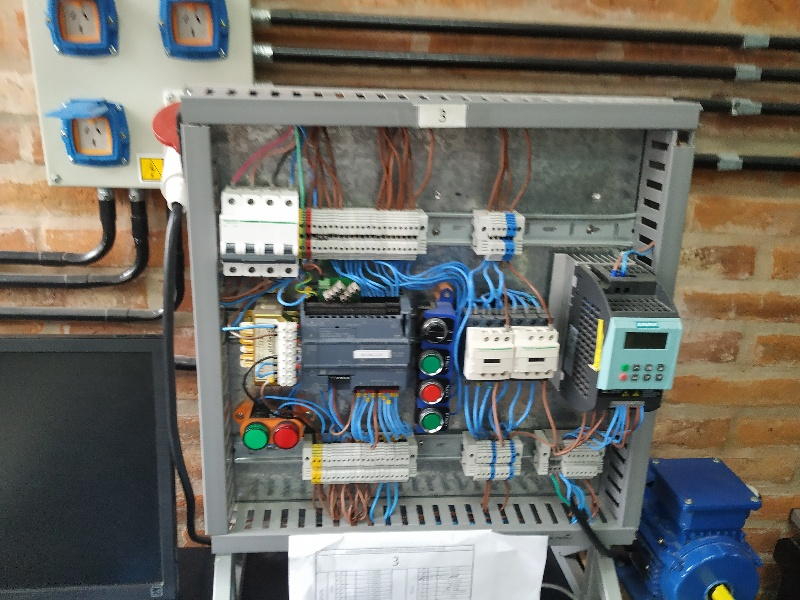Tablero 3: (202, 114, 683, 545)
